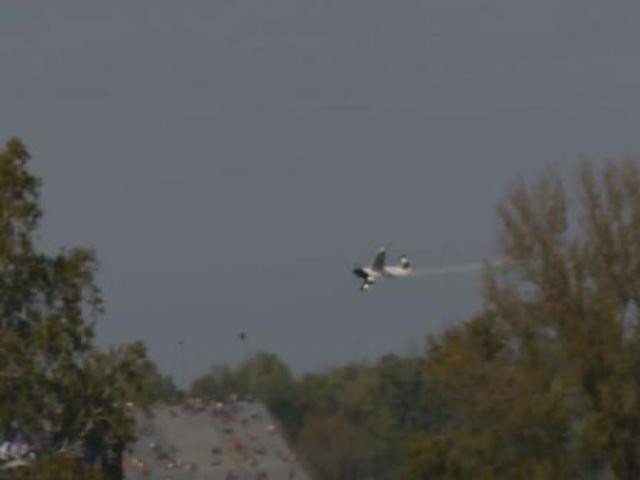uav: (349, 243, 418, 296)
